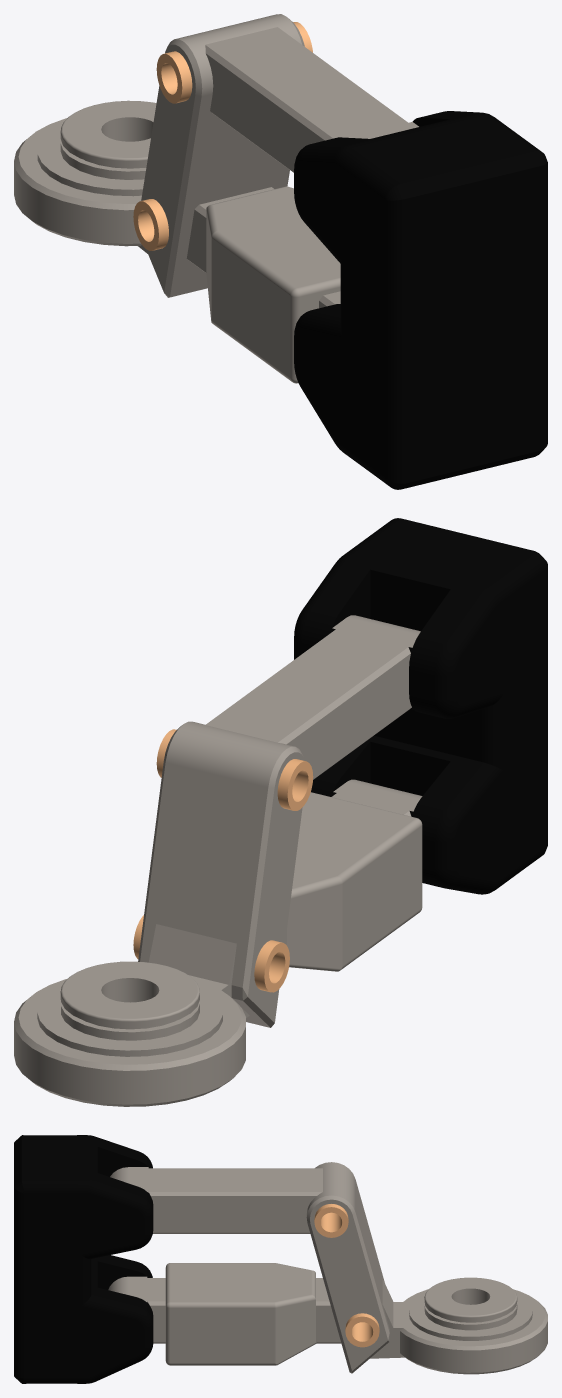
Rendered from suspension_left.dae.
3 views of the same model, one above another, from view 1: azimuth 30°, elevation 25°; view 2: azimuth 150°, elevation 25°; view 3: azimuth 270°, elevation 25° (orthographic). The views are drawn at different scales.
Parts seen in each view (by area): view 1: _3DGeom-186, _3DGeom-185, _3DGeom-184; view 2: _3DGeom-185, _3DGeom-186, _3DGeom-184; view 3: _3DGeom-185, _3DGeom-186, _3DGeom-184.
Boxes of the visible parts, box(x1,y1,x2,y2) form: _3DGeom-186: box(294, 111, 547, 489); _3DGeom-185: box(14, 14, 418, 383); _3DGeom-184: box(133, 22, 312, 250); _3DGeom-185: box(14, 615, 422, 1106); _3DGeom-186: box(294, 518, 547, 894); _3DGeom-184: box(133, 729, 313, 992); _3DGeom-185: box(108, 1162, 547, 1374); _3DGeom-186: box(14, 1135, 153, 1383); _3DGeom-184: box(314, 1204, 379, 1347).
Bounding box in the file's own units: 0.0999 × 0.3448 × 0.145.
